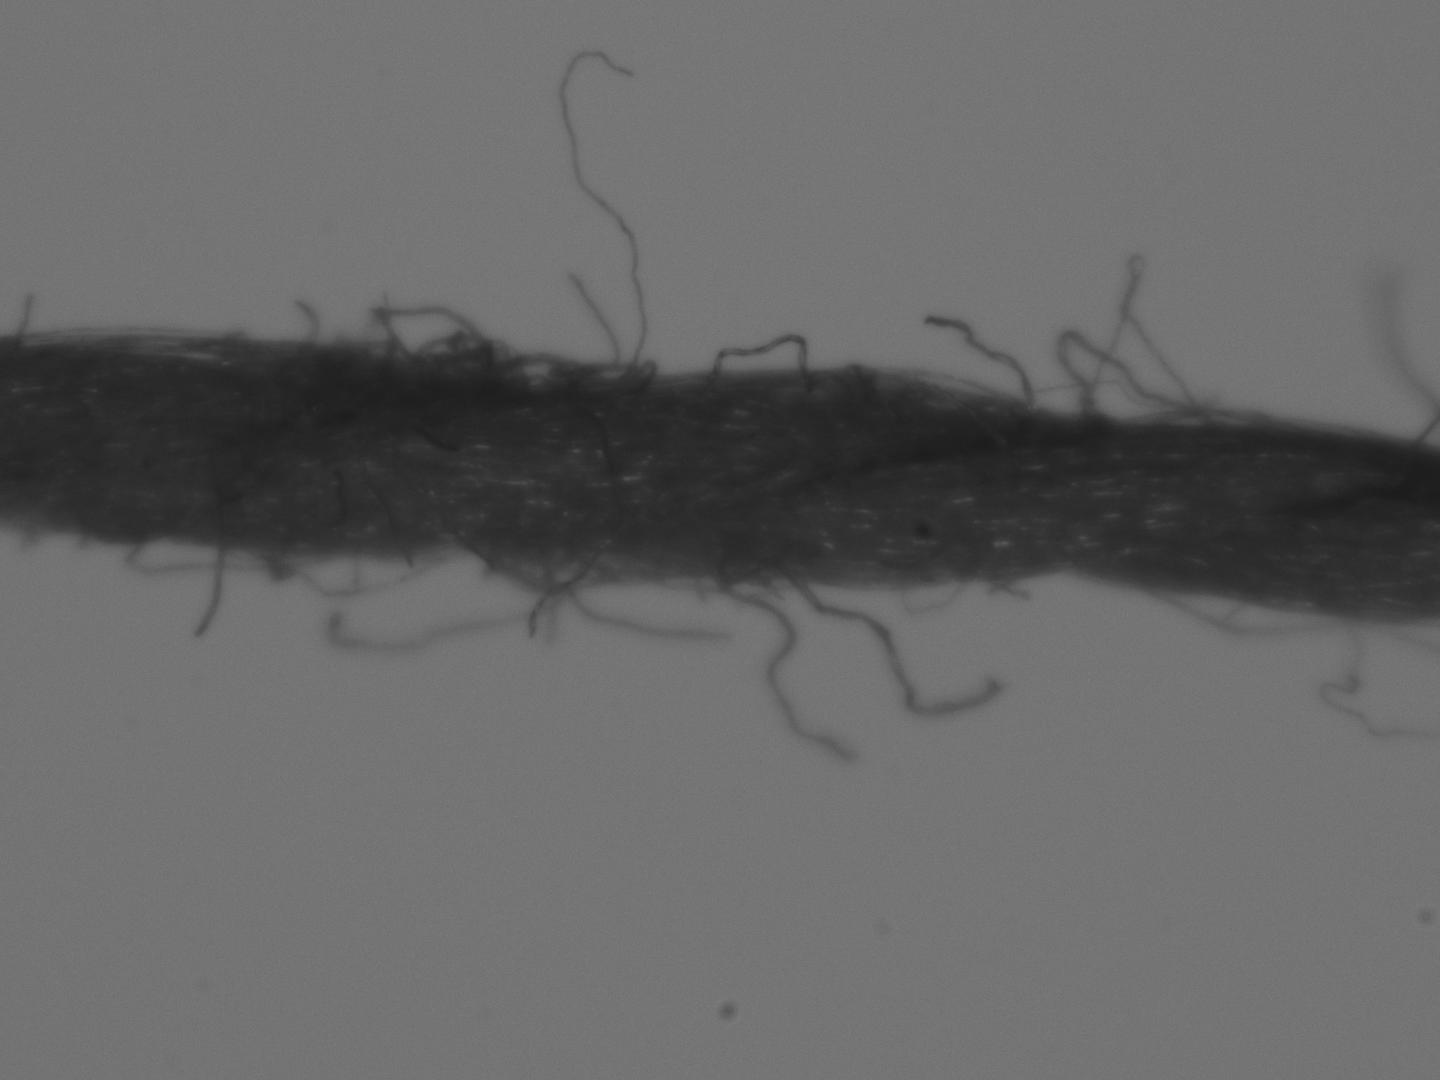loop_fiber: (1077, 247, 1218, 416), (1058, 322, 1261, 432), (1100, 576, 1341, 635), (369, 301, 500, 371), (686, 327, 819, 389)
protruding_fiber: (552, 43, 653, 380), (778, 574, 1003, 720), (714, 572, 859, 765), (314, 563, 608, 649), (543, 576, 735, 647), (916, 310, 1040, 414), (1373, 262, 1439, 446), (562, 270, 628, 371), (190, 539, 231, 633)
